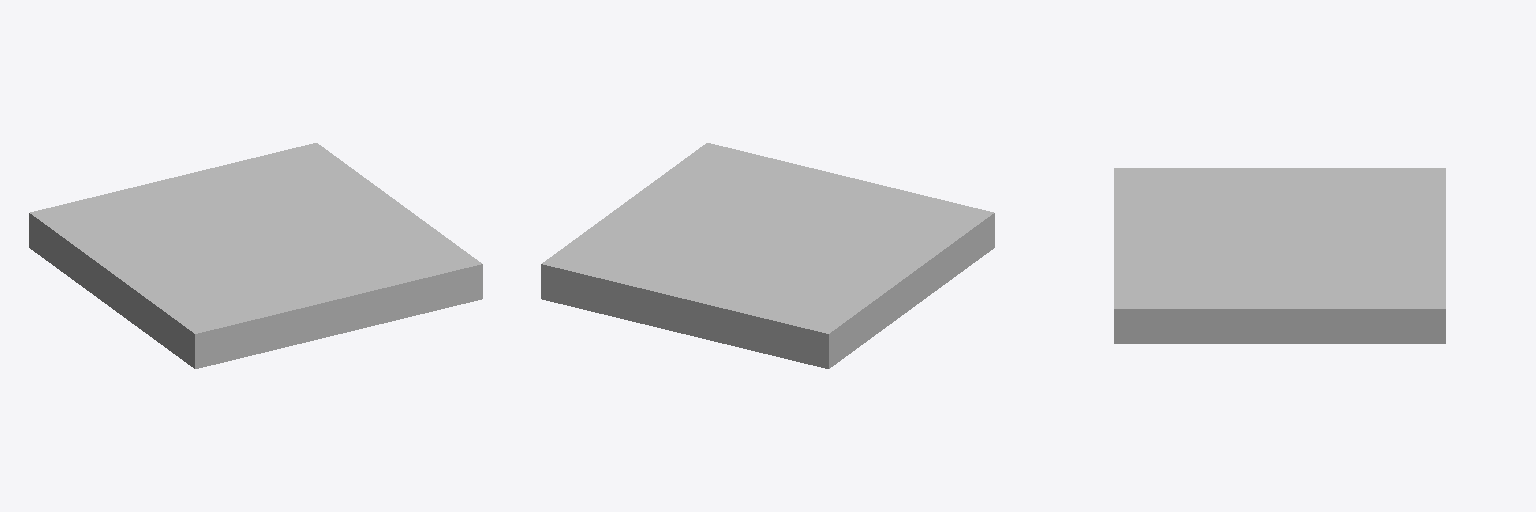
The model's file is room3.obj.
3 renders of one model, left to right at view 1: azimuth 30°, elevation 25°; view 2: azimuth 150°, elevation 25°; view 3: azimuth 270°, elevation 25°, orthographic.
Visible parts, largest first — view 1: Ceiling, Room; view 2: Ceiling, Room, Room.003; view 3: Ceiling, Room.
Boxes of the visible parts, <box> form: Ceiling: <box>35,145,476,331</box>; Room: <box>29,143,482,368</box>; Ceiling: <box>547,145,988,331</box>; Room: <box>541,143,994,368</box>; Room.003: <box>604,221,790,263</box>; Ceiling: <box>1118,170,1441,306</box>; Room: <box>1114,168,1445,343</box>.
Bounding box in the file's own units: 25.6 × 3 × 25.6.